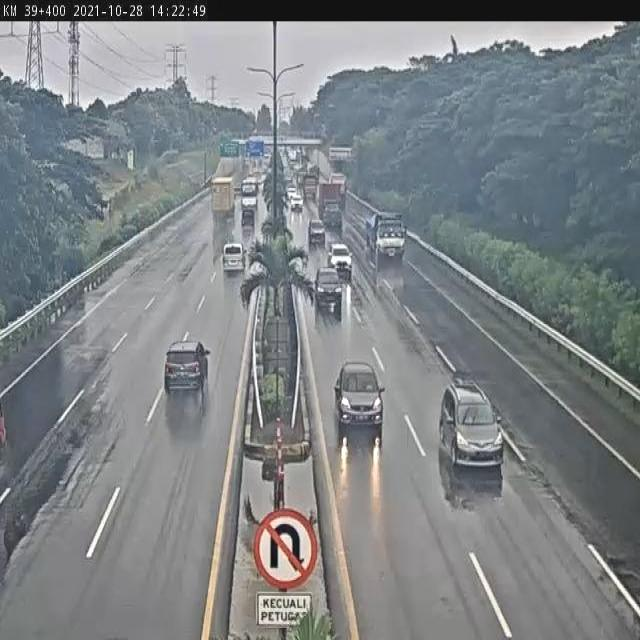Car: (438, 374, 504, 476), (330, 359, 387, 434), (159, 332, 212, 403), (312, 264, 346, 309), (324, 239, 355, 284), (217, 240, 247, 280), (306, 222, 328, 255), (238, 207, 256, 230), (287, 196, 304, 216)
Truck: (342, 202, 411, 266), (310, 179, 344, 227), (207, 176, 236, 222)
